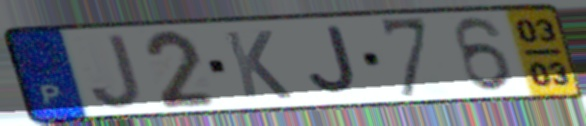2: (142, 27, 221, 112)
6: (451, 14, 517, 94)
7: (378, 16, 435, 101)
J: (87, 32, 145, 112), (305, 24, 362, 98)
K: (220, 28, 296, 101)
